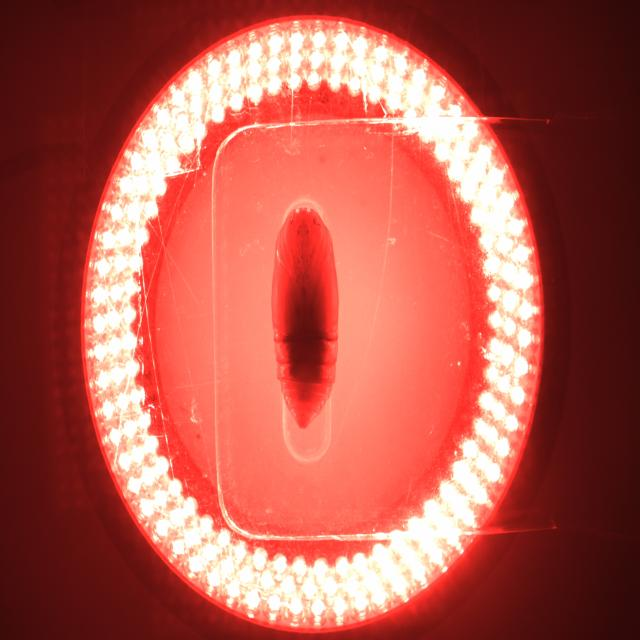female: (301, 412, 305, 417)
